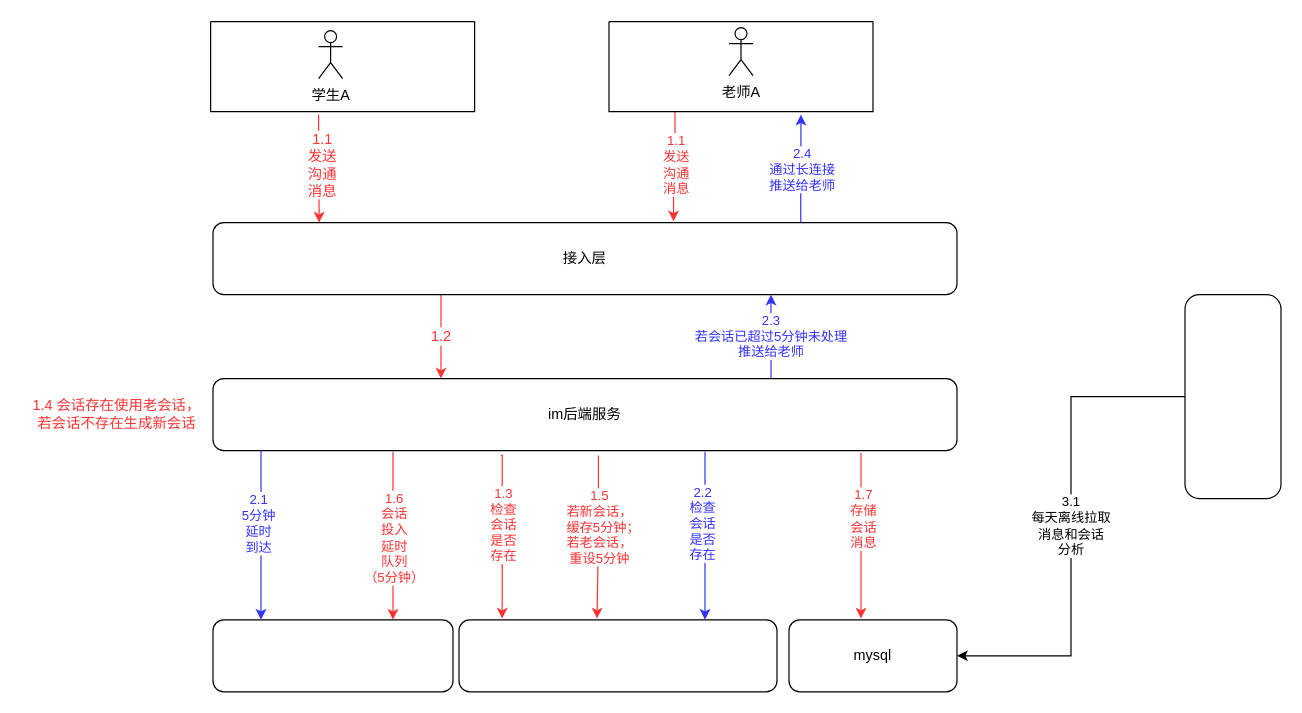
Image size: 1302x713. Some labels were removed from this diagram. Each missing label, with the centre of its shape:
消息队列mq: the point at 332,655
离线 统计 分析 系统: the point at 1232,396
缓存redis: the point at 617,655
